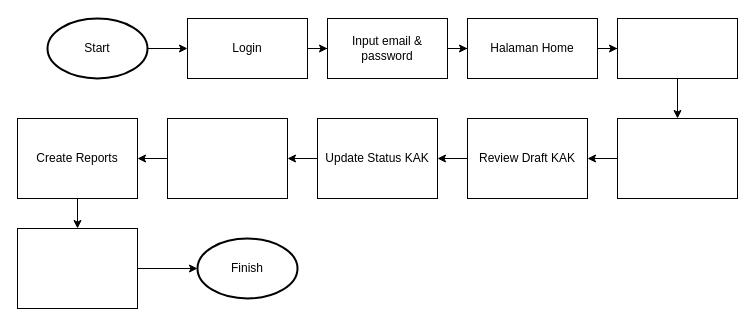
The diagram is 755 pixels wide and 326 high, and some of its shapes have lost their labels. Each missing label, with the box of its shape:
Generate KAK Document: (166, 118, 288, 198)
Logout: (16, 228, 138, 308)
Manage Categories (CRUD): (616, 118, 738, 198)
Manage Users (CRUD): (616, 18, 738, 78)
